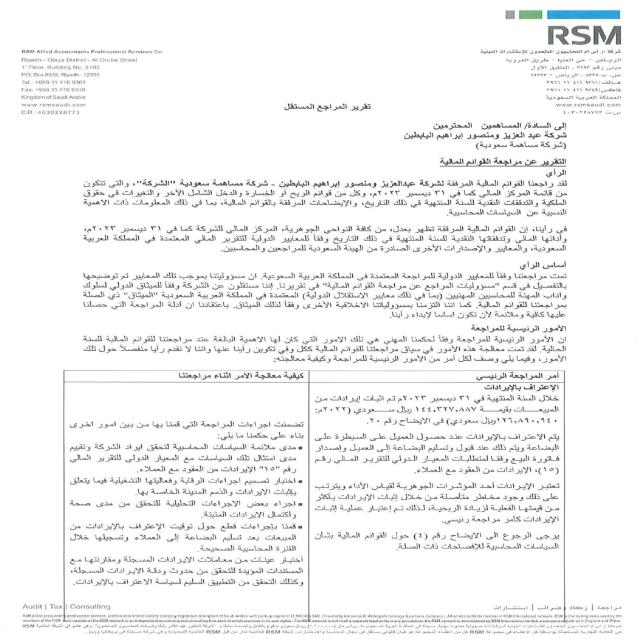auditor_report: (256, 100, 392, 120)
